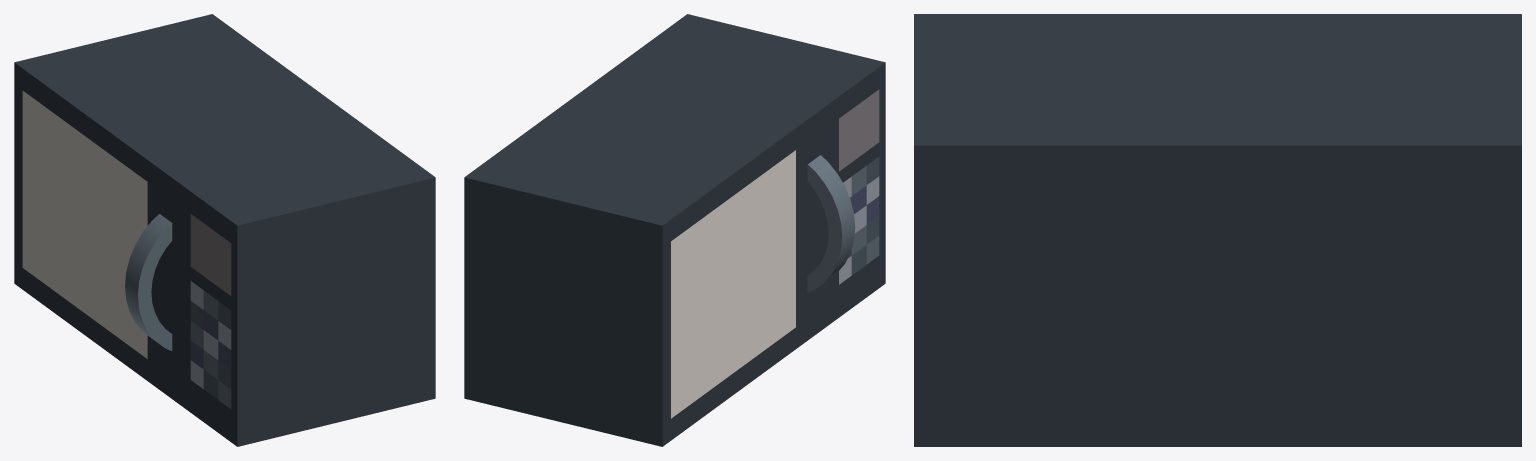
The model's file is microwave_animations_take_2_microwave_open.fbx.
3 views of the same model, side by side, from view 1: azimuth 30°, elevation 25°; view 2: azimuth 150°, elevation 25°; view 3: azimuth 270°, elevation 25° (orthographic). The views are drawn at different scales.
Parts seen in each view (by area): view 1: Body, Microwave_Door, Handle; view 2: Body, Microwave_Door, Handle; view 3: Body, Microwave_Door.
Part boxes in pixels (box(x1,y1,x2,y2)): Body: box(40, 14, 435, 446); Microwave_Door: box(14, 56, 208, 407); Handle: box(125, 214, 172, 350); Body: box(464, 14, 885, 440); Microwave_Door: box(637, 95, 832, 446); Handle: box(807, 155, 855, 292); Body: box(914, 14, 1521, 446); Microwave_Door: box(1058, 14, 1521, 30).
Bounding box in the file's own units: 0.0117 × 0.0107 × 0.0195.
1 material, 1 textured.
